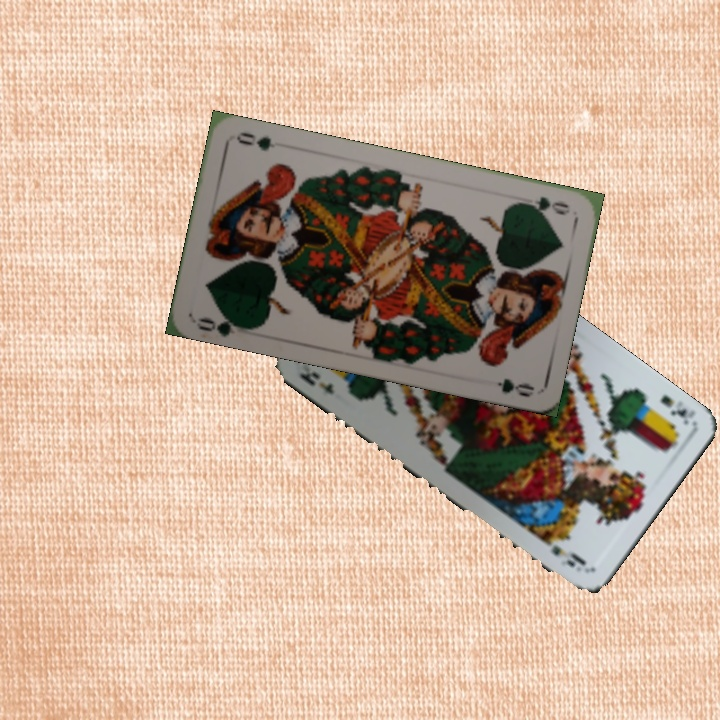EK: (656, 391, 699, 428), (295, 367, 337, 398)
GO: (192, 308, 252, 338), (515, 192, 573, 218)
